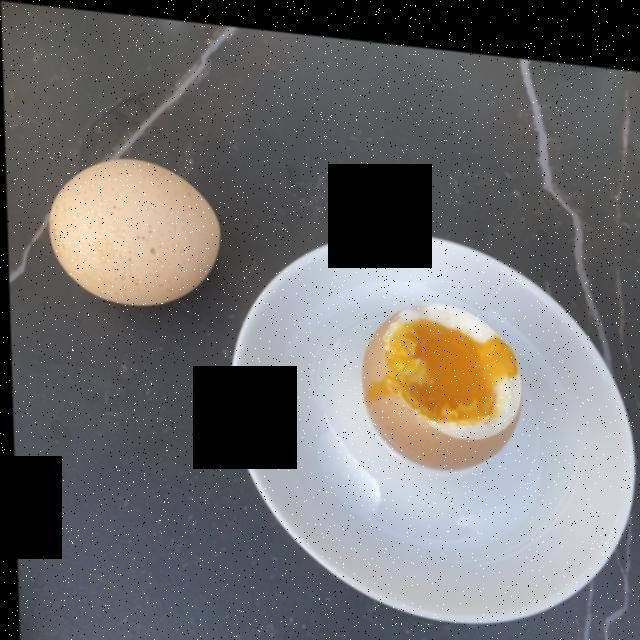egg: (29, 155, 520, 456)
